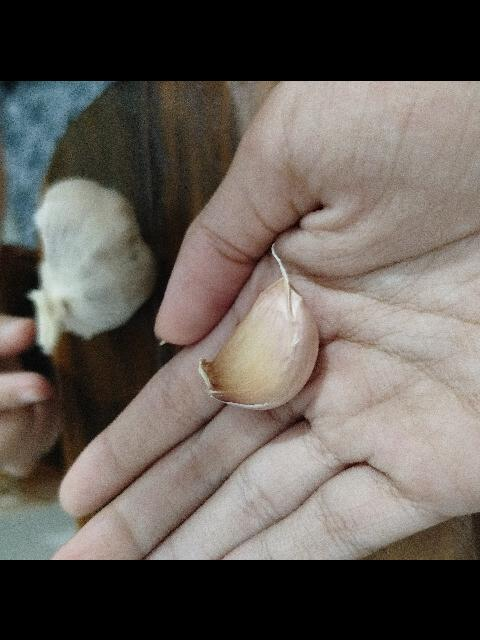garlic: (198, 242, 320, 410)
